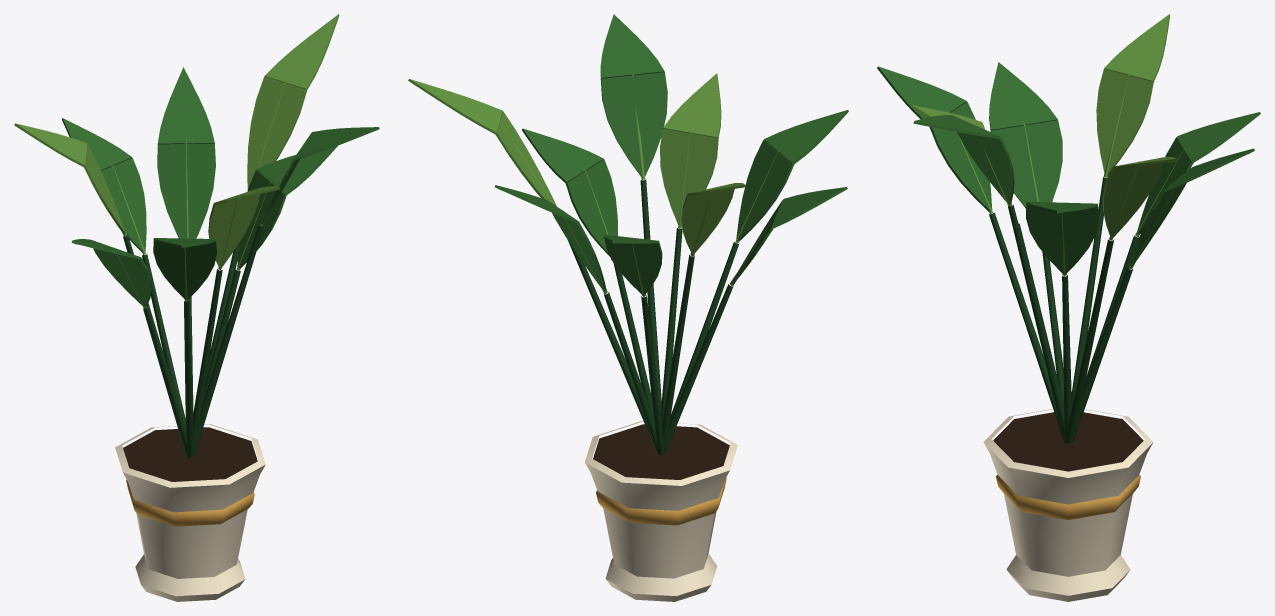
File: plant_palm.glb
3 renders of one model, left to right at view 1: azimuth 30°, elevation 25°; view 2: azimuth 150°, elevation 25°; view 3: azimuth 270°, elevation 25°, orthographic. The views are drawn at different scales.
Visible parts, largest first — view 1: PlantPalm; view 2: PlantPalm; view 3: PlantPalm.
Part boxes in pixels (x1,y1,x2,y2): PlantPalm: (14,14,379,601); PlantPalm: (408,14,848,601); PlantPalm: (877,14,1260,601).
Size of the model in its own units: 1.35 by 1.77 by 1.17.
